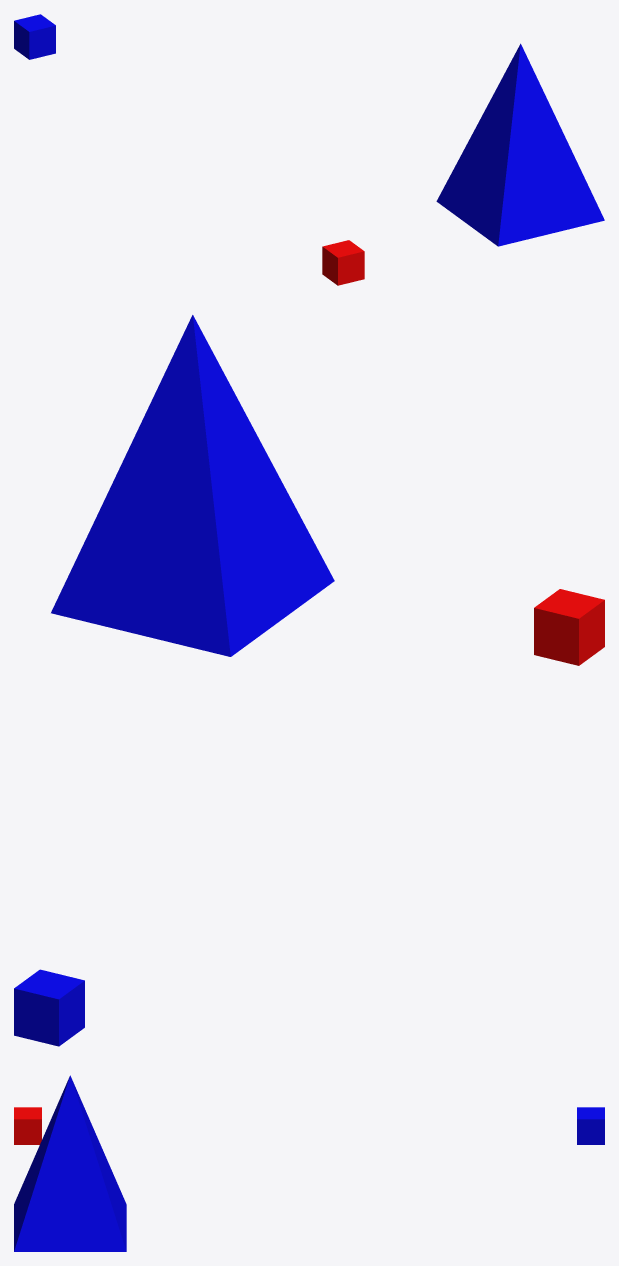
The picture shows the model from 3 angles, top to bottom: view 1: azimuth 30°, elevation 25°; view 2: azimuth 150°, elevation 25°; view 3: azimuth 270°, elevation 25°; orthographic projection. The views are drawn at different scales.
Visible parts, largest first — view 1: pyr-node, cube-node, matrix-node; view 2: pyr-node, cube-node, matrix-node; view 3: pyr-node, matrix-node, cube-node.
Boxes of the visible parts, x1,y1,x2,y2 form: pyr-node: (436, 43, 604, 246); cube-node: (322, 240, 364, 285); matrix-node: (14, 14, 55, 59); pyr-node: (51, 315, 334, 656); cube-node: (534, 589, 604, 665); matrix-node: (14, 969, 84, 1046); pyr-node: (14, 1075, 126, 1251); matrix-node: (577, 1107, 604, 1144); cube-node: (14, 1107, 41, 1144).
Size of the model in its own units: 10 by 21 by 6.
